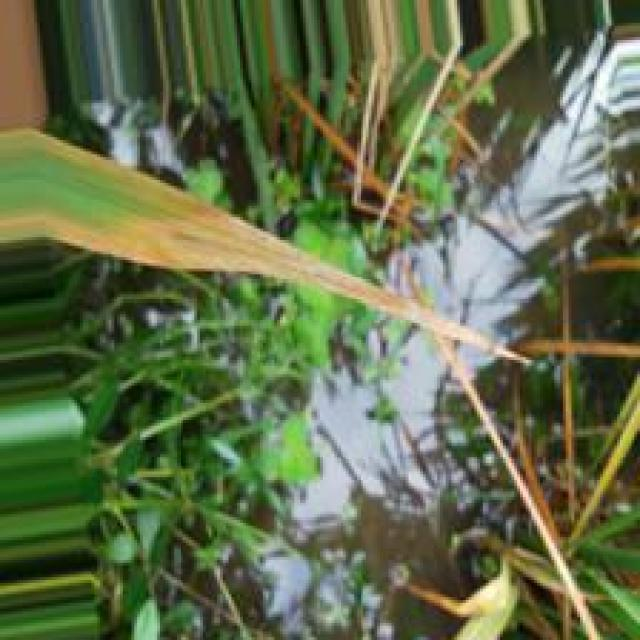Leaf_Scald: (2, 178, 466, 338)
